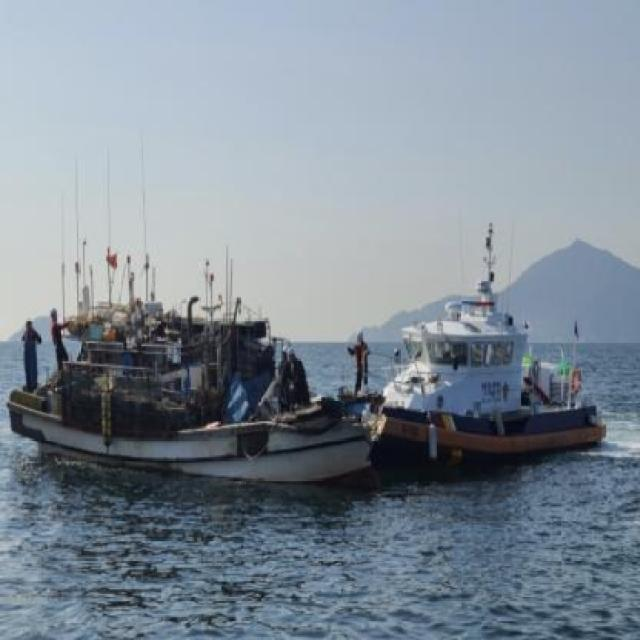fish-b: (1, 240, 398, 511), (374, 238, 622, 496)
